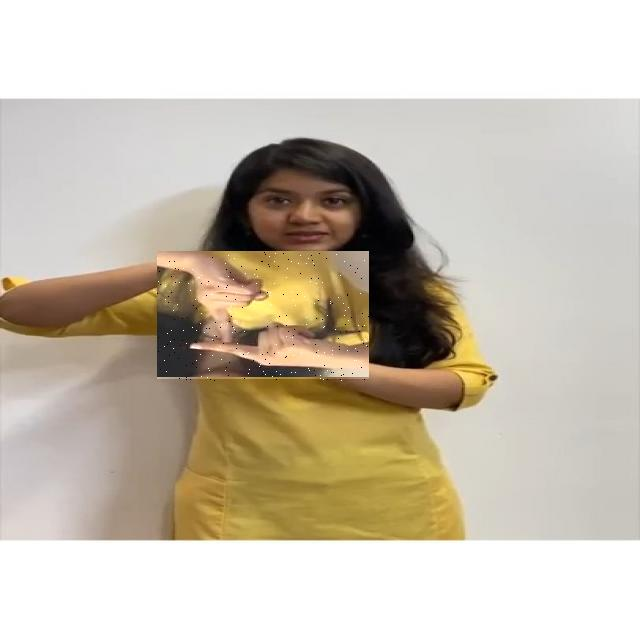T: (157, 252, 369, 382)
